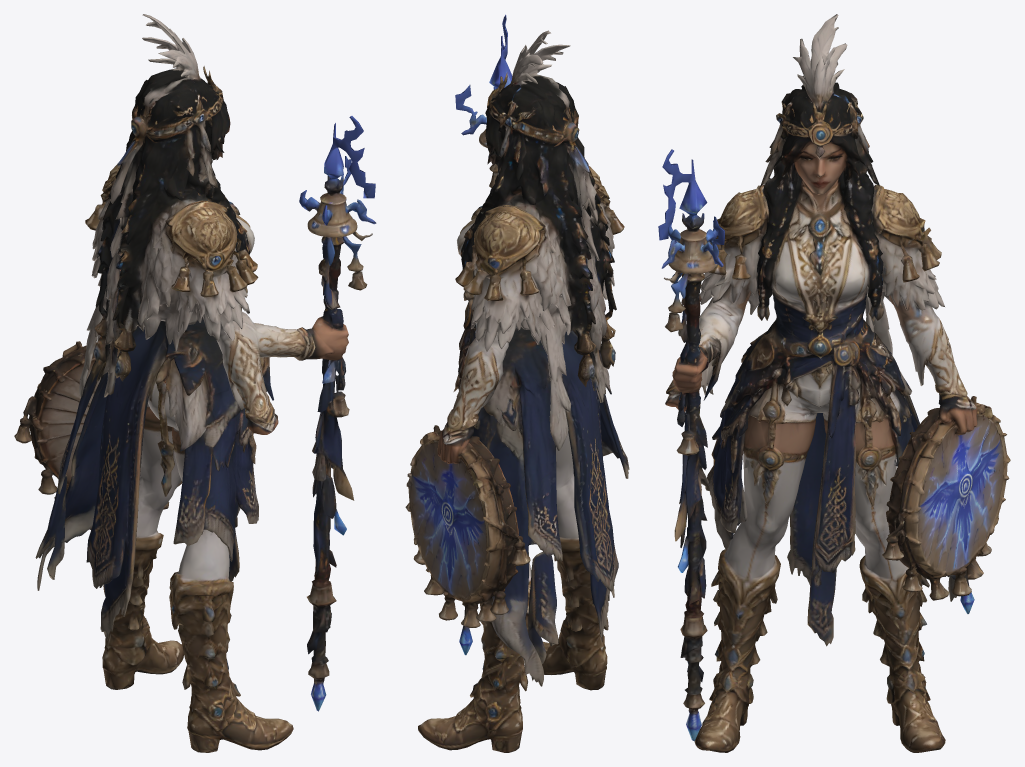
Rendered from drumcaller_T7-tripo.glb.
The picture shows the model from 3 angles, left to right: view 1: azimuth 30°, elevation 25°; view 2: azimuth 150°, elevation 25°; view 3: azimuth 270°, elevation 25°; orthographic projection.
Parts seen in each view (by area): view 1: tripo_node_a2edbe27-15c3-4a71-940f-bbae71fec3d0; view 2: tripo_node_a2edbe27-15c3-4a71-940f-bbae71fec3d0; view 3: tripo_node_a2edbe27-15c3-4a71-940f-bbae71fec3d0.
Boxes of the visible parts, x1,y1,x2,y2 form: tripo_node_a2edbe27-15c3-4a71-940f-bbae71fec3d0: (14,14,376,752); tripo_node_a2edbe27-15c3-4a71-940f-bbae71fec3d0: (405,14,629,752); tripo_node_a2edbe27-15c3-4a71-940f-bbae71fec3d0: (658,14,1010,752).
Bounding box in the file's own units: 0.3143 × 1 × 0.4533.
1 material, 1 textured.
